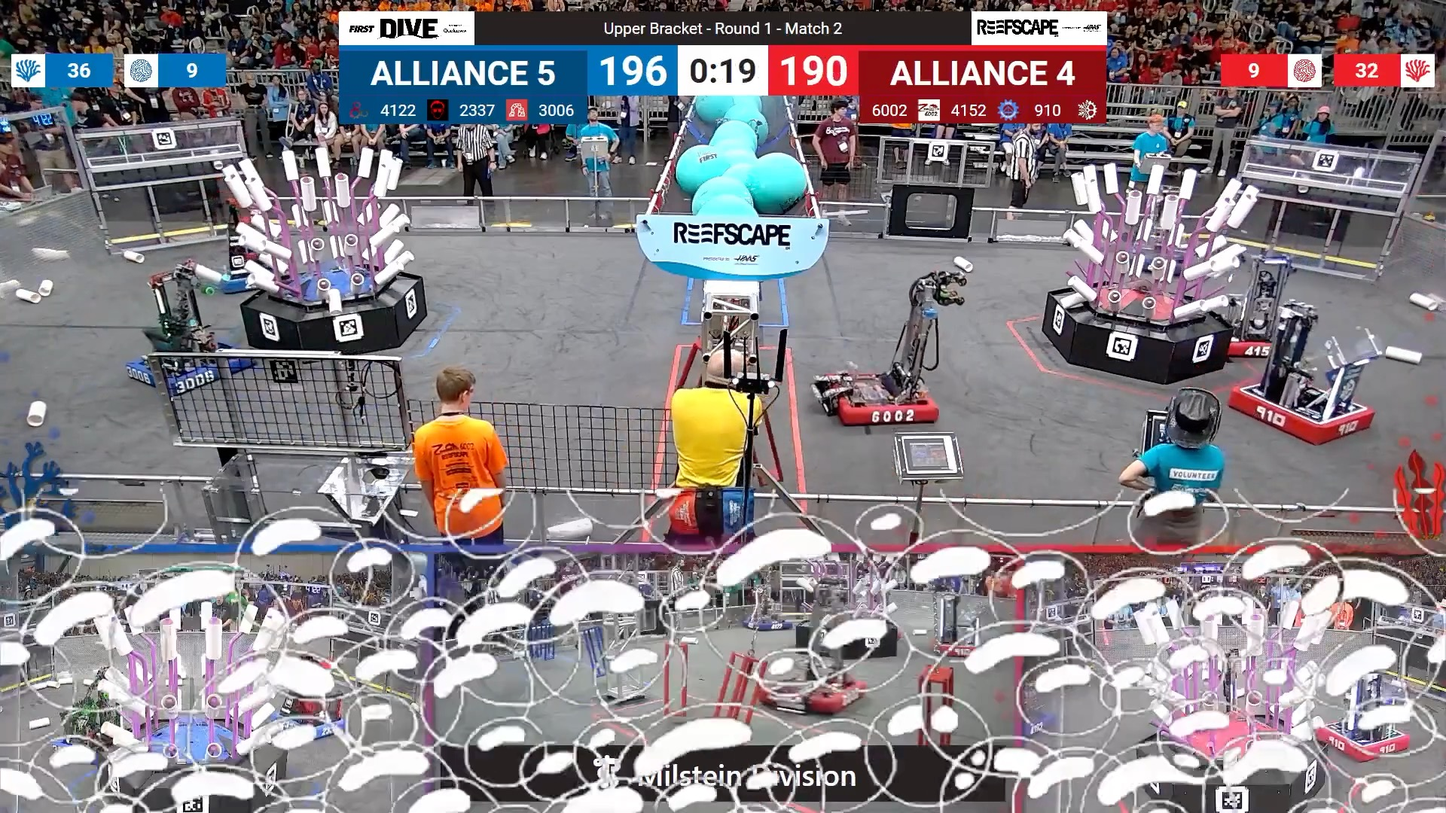bumpers: (1215, 376, 1381, 449), (814, 370, 946, 431), (739, 665, 872, 719), (120, 343, 254, 393), (1308, 718, 1420, 765), (1216, 312, 1319, 362)
